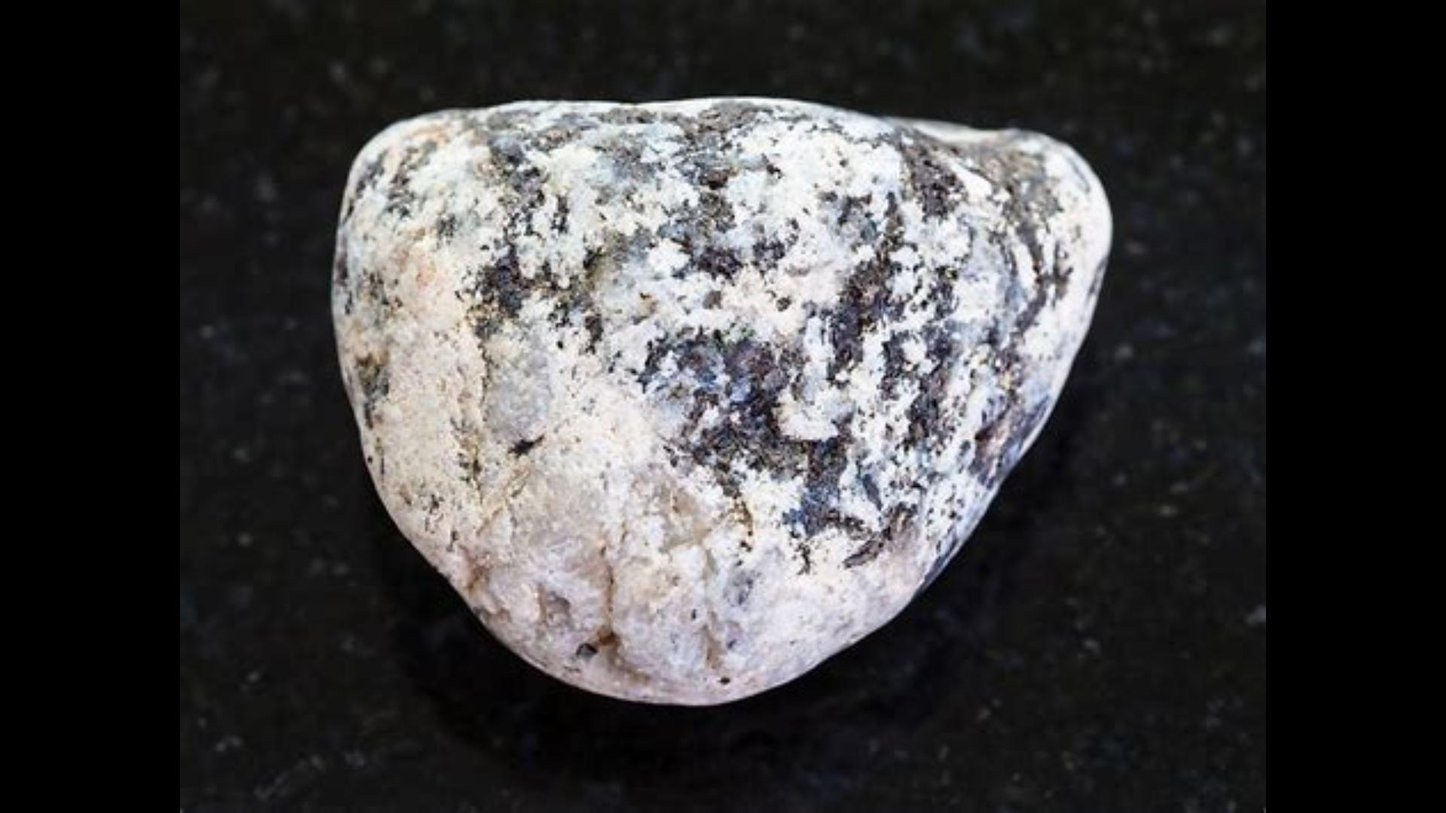rock: (334, 98, 1108, 701)
